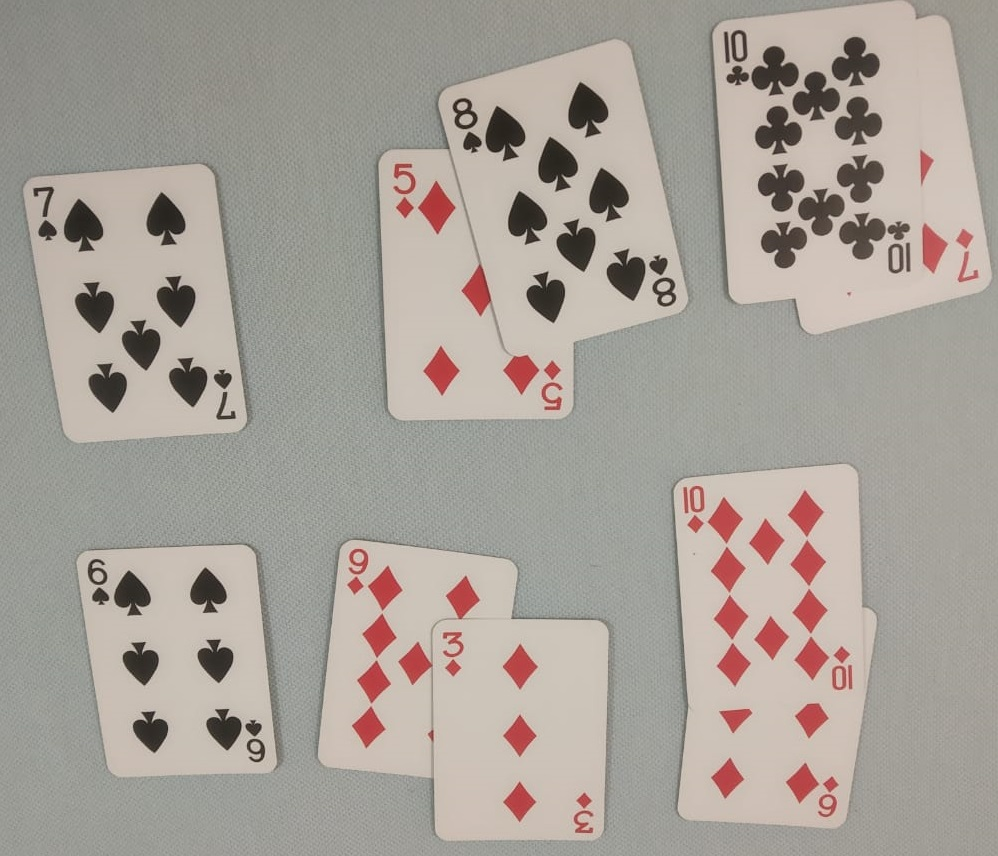eight: (420, 37, 705, 364)
five: (364, 134, 610, 443)
nine: (316, 517, 525, 795)
seven: (12, 158, 272, 479)
six: (63, 537, 289, 797)
ten: (701, 17, 933, 308), (673, 458, 870, 708)
three: (431, 594, 615, 851)
